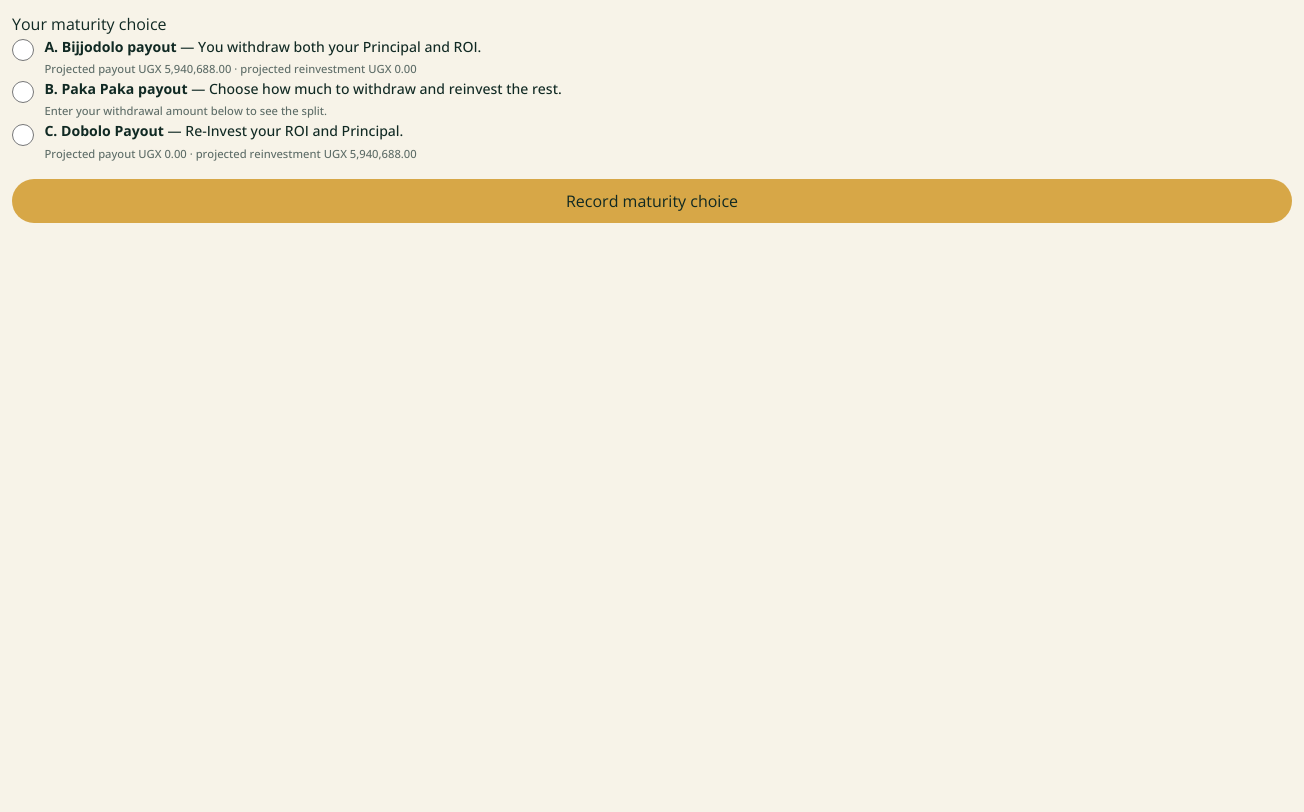
Test: Paka Paka withdrawal form › keeps exactly three options and reveals a blank required field
The image size is (1304, 812).
Expected: the field labelled "Amount to withdraw (UGX)" is not shown
Click the radio button labelled "B. Paka Paka": click(23, 92) left=12, top=81, right=34, bottom=103
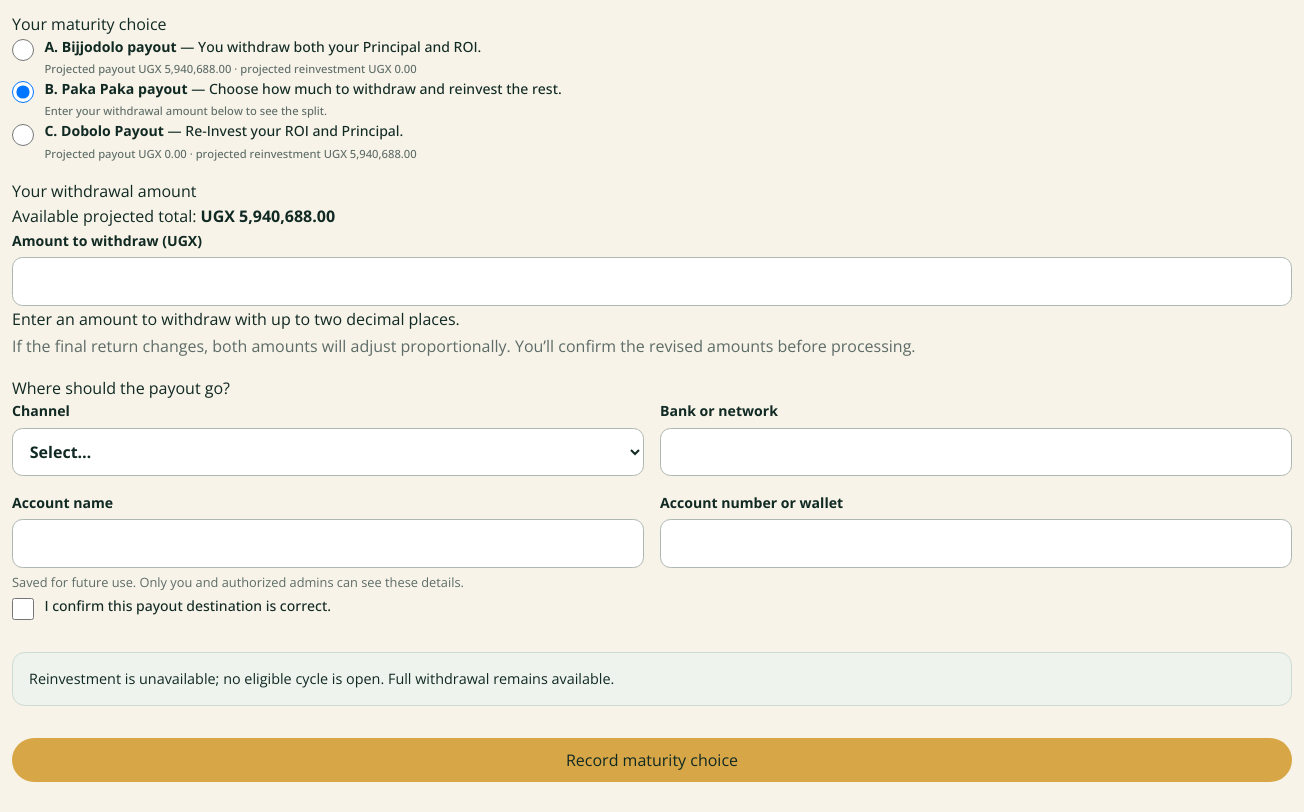
Expected: the field labelled "Amount to withdraw (UGX)" is empty, left=12, top=257, right=1292, bottom=306
Expected: the text "Available projected total: UGX 5,940,688.00" is shown, left=12, top=205, right=335, bottom=227
Expected: the text "both amounts will adjust proportionally" is shown, left=12, top=335, right=916, bottom=357
